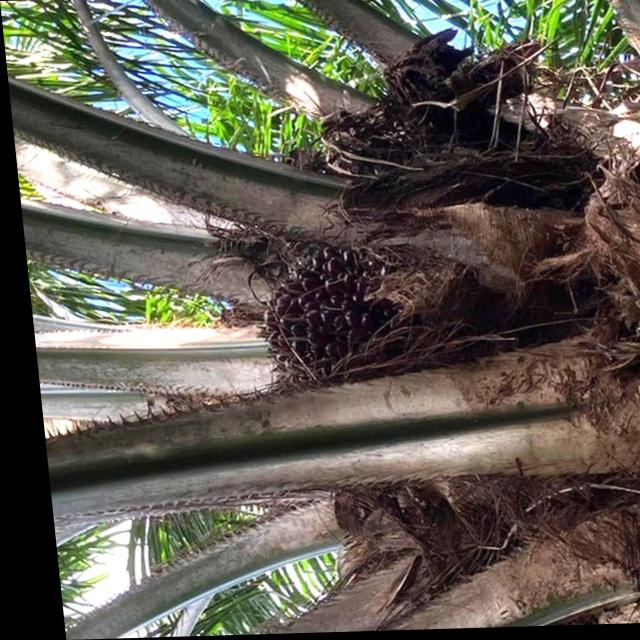ripe: (246, 251, 418, 380)
